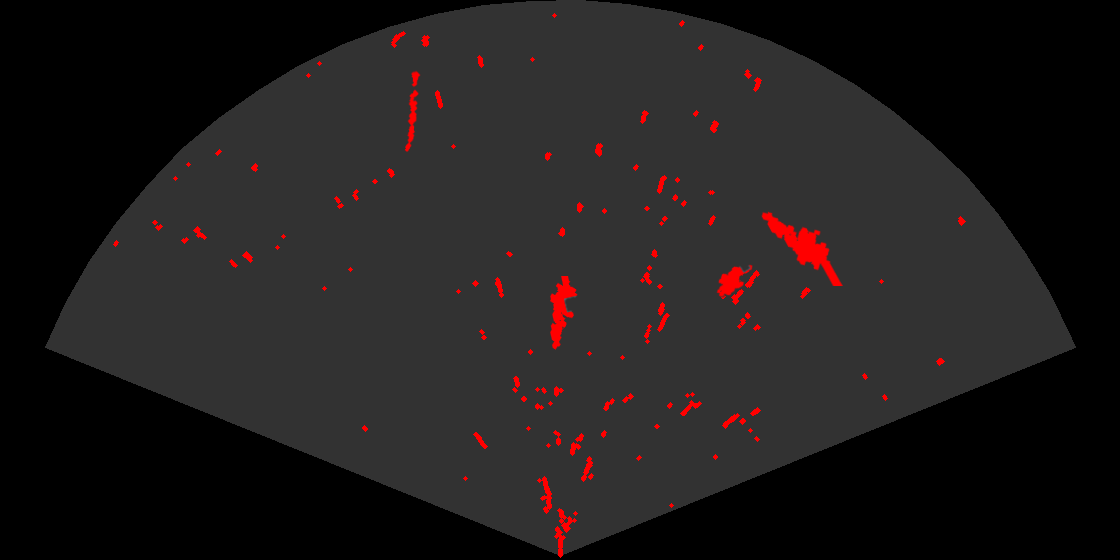AUV: (715, 263, 754, 298)
chain: (403, 70, 422, 154)
frogman: (760, 210, 843, 286), (549, 276, 579, 351)
